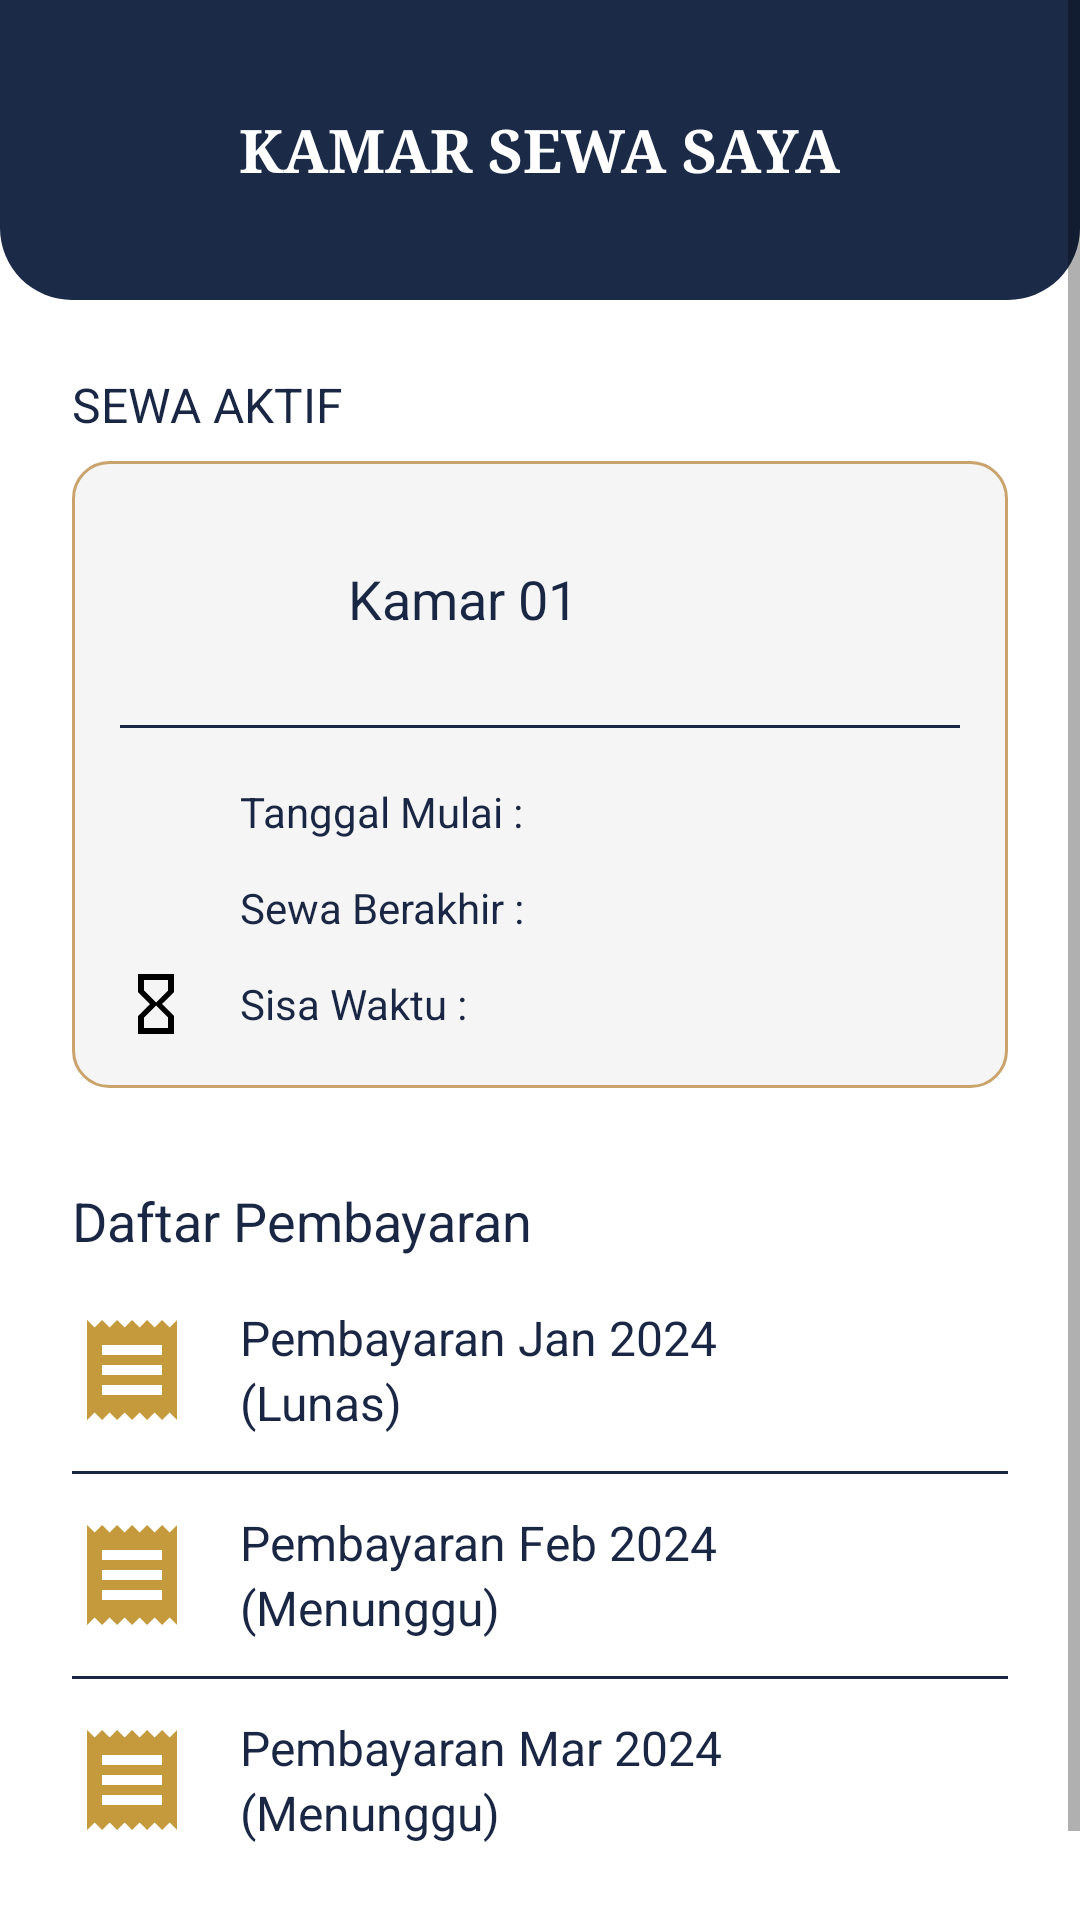

Where to tap for icons on this 1080px×1920px app screen, as (x=x, y=y):
hourglass: (x=156, y=1004)
receipt: (x=132, y=1370), (x=132, y=1575), (x=132, y=1780)
